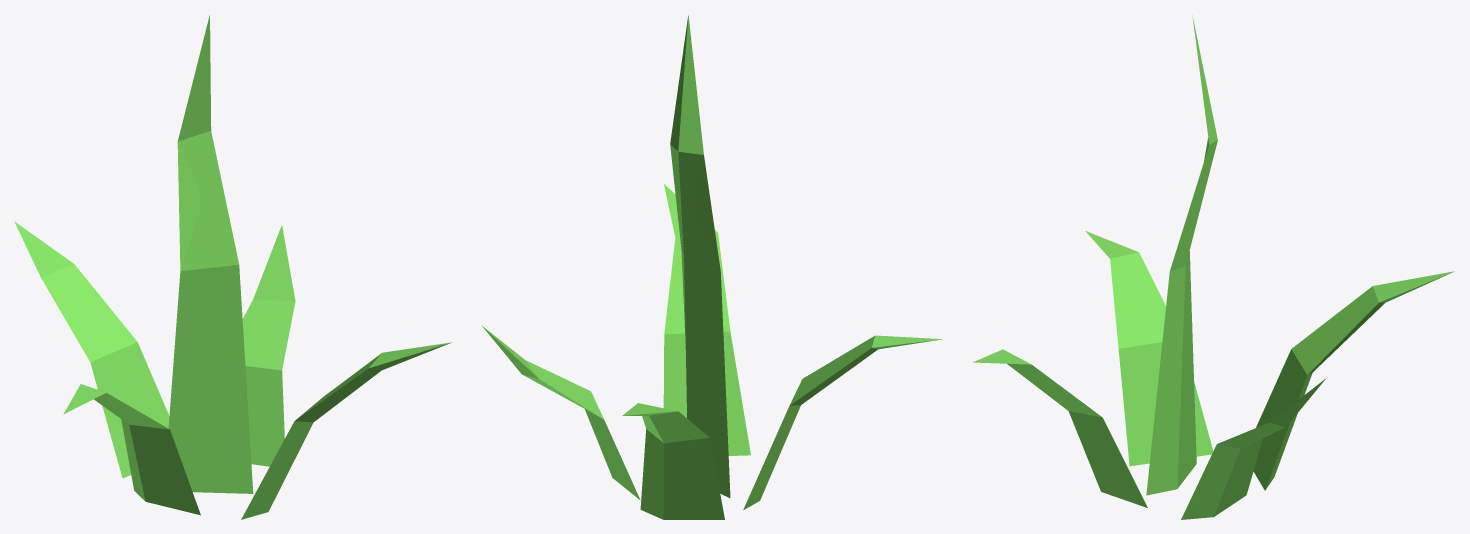
Rendered from Grass2.fbx.
3 views of the same model, side by side, from view 1: azimuth 30°, elevation 25°; view 2: azimuth 150°, elevation 25°; view 3: azimuth 270°, elevation 25° (orthographic).
Parts seen in each view (by area): view 1: Grass2; view 2: Grass2; view 3: Grass2.
Boxes of the visible parts, bbox=[...] form: Grass2: bbox=[14, 15, 451, 519]; Grass2: bbox=[482, 15, 942, 519]; Grass2: bbox=[972, 15, 1454, 519].
Size of the model in its own units: 10.11 by 13.36 by 12.4.
